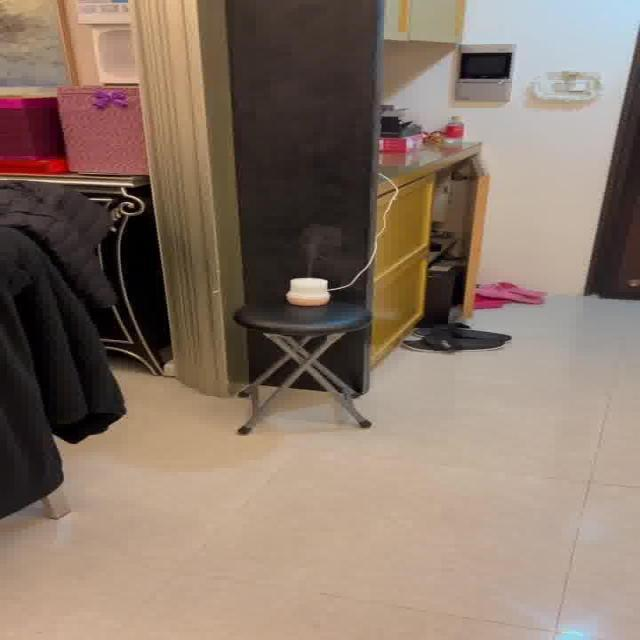fire: (292, 220, 348, 274)
